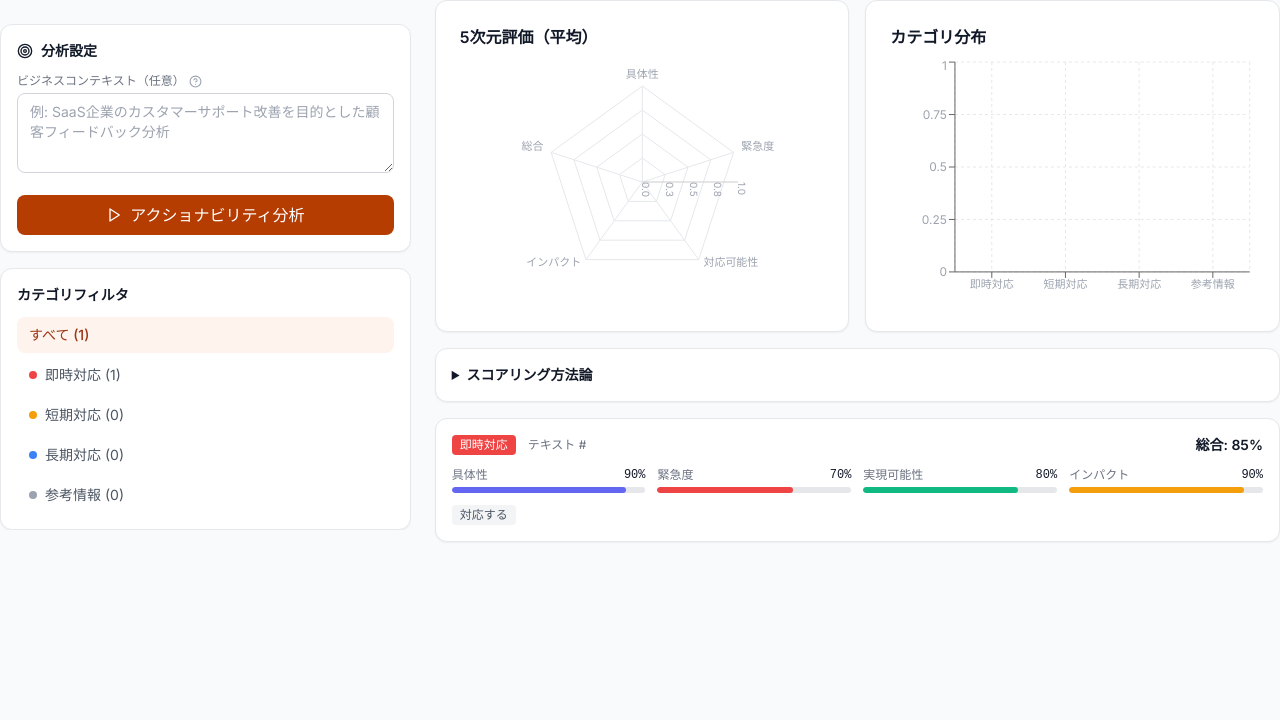
ActionabilityPage › API失敗時にエラー表示
The image size is (1280, 720).
Click the button "アクショナビリティ分析": (205, 215) [17,195,394,235]
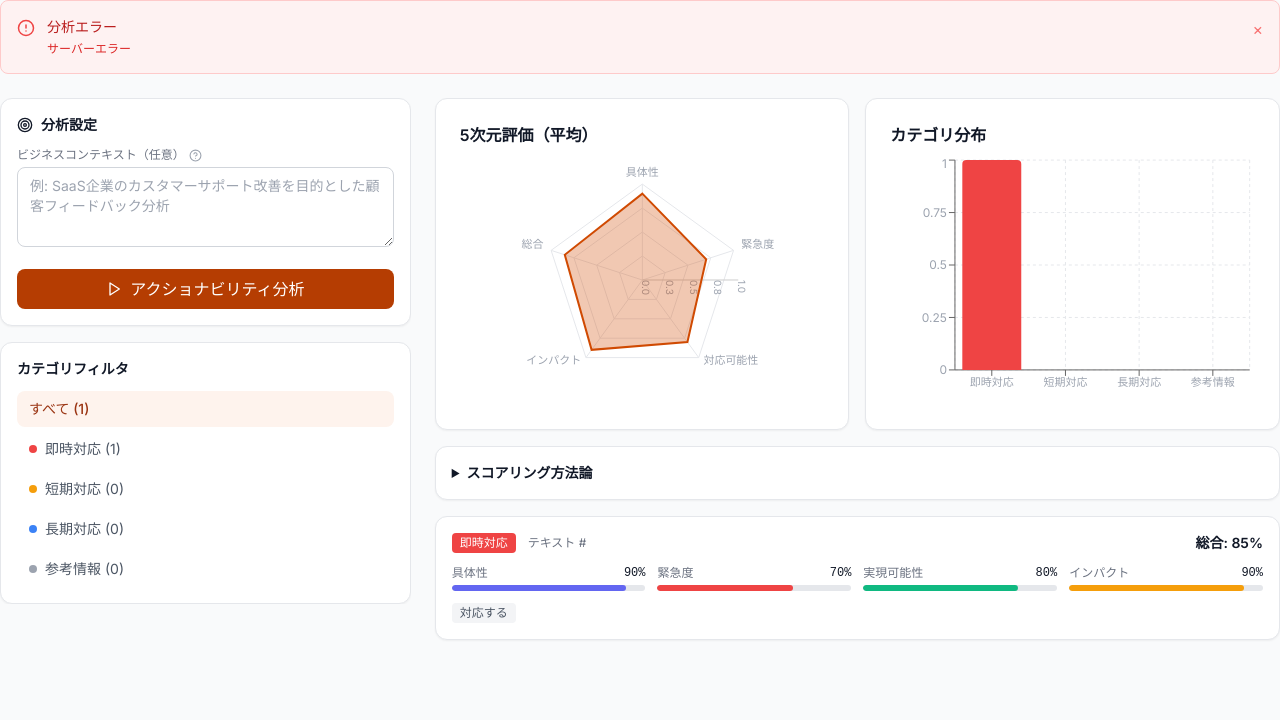
Check: the text "分析エラー" is shown, box [47,18,117,35]
